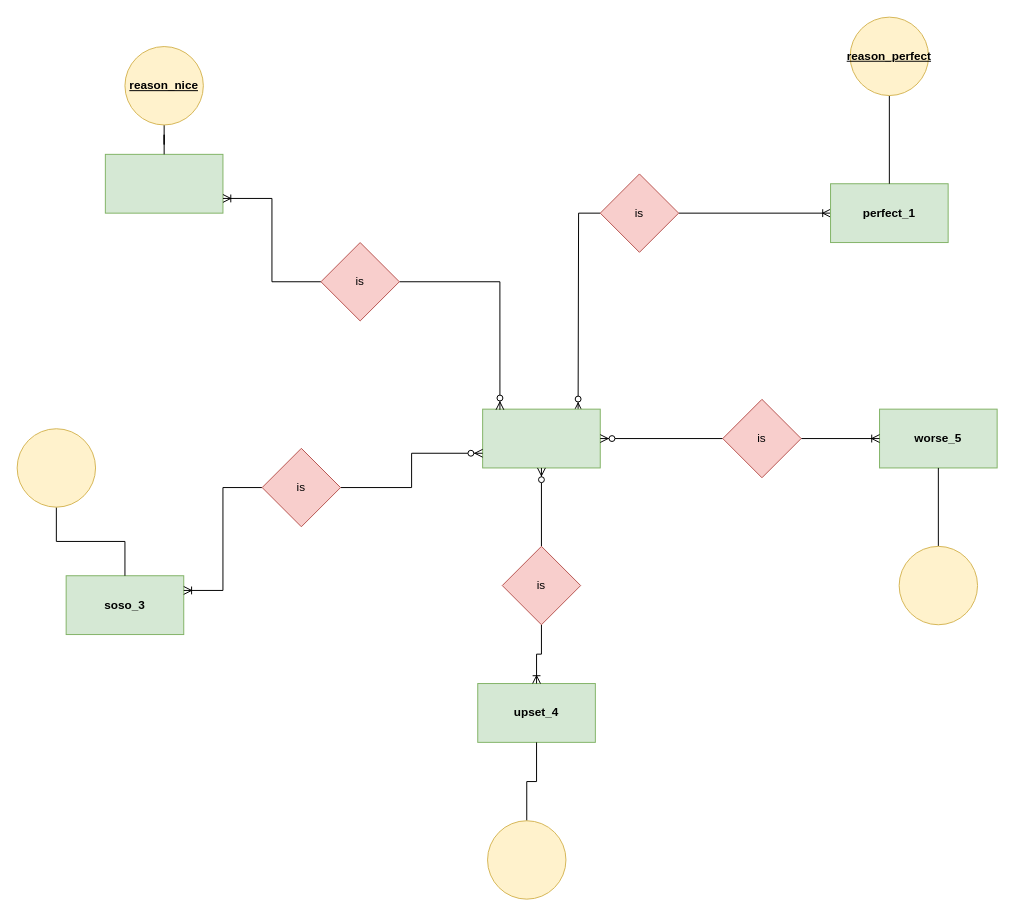
Image size: 1014x916. Some labels were removed from this diagram. The centre of each missing label's shape, as x and y in pixels:
"Feeling_of_today" belongs at (x=541, y=438).
"nice _2" belongs at (x=163, y=183).
"reason_soso" belongs at (x=56, y=467).
"reason_upset" belongs at (x=526, y=859).
"reason_worse" belongs at (x=938, y=585).
